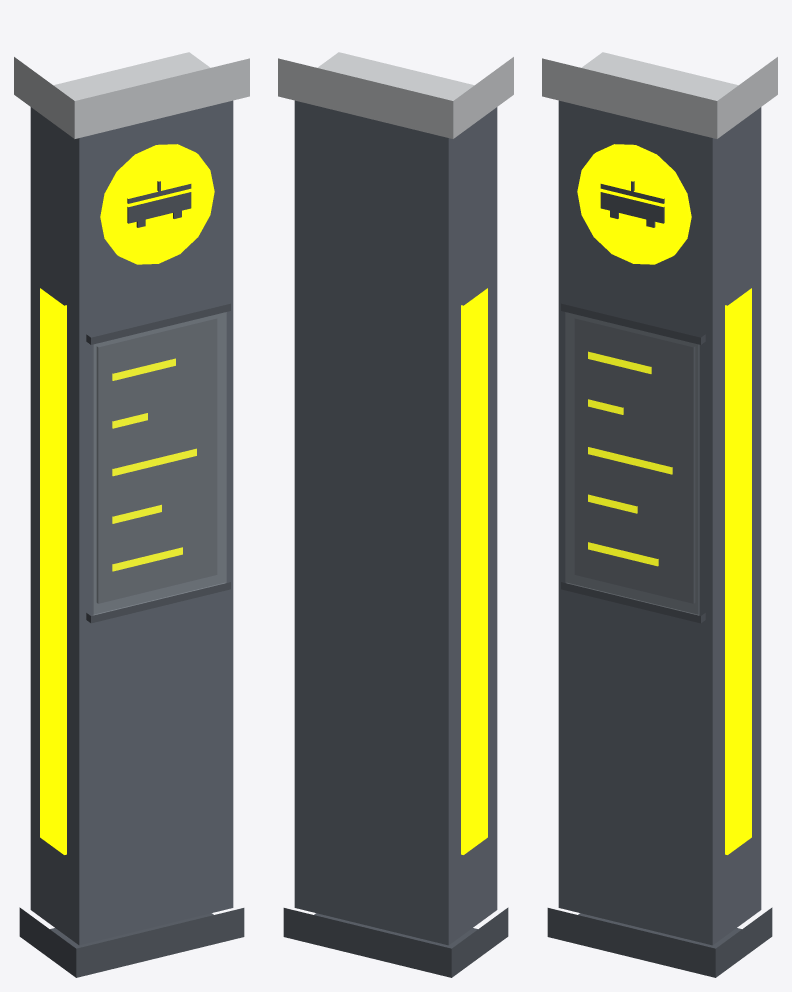
Rendered from ext_stop_totem_03.glb.
The picture shows the model from 3 angles, left to right: view 1: azimuth 30°, elevation 25°; view 2: azimuth 150°, elevation 25°; view 3: azimuth 330°, elevation 25°; orthographic projection.
Visible parts, largest first — view 1: Body, Timetable_Glass, Timetable_Plate, Side_Light, Cap, Roundel, Plinth, Timetable_Bars, Bezel, Tram_Glyph; view 2: Body, Side_Light, Cap, Plinth; view 3: Body, Timetable_Glass, Timetable_Plate, Side_Light, Cap, Roundel, Plinth, Timetable_Bars, Bezel, Tram_Glyph.
Part boxes in pixels (x1,y1,x2,y2): Body: [30, 100, 233, 945]; Timetable_Glass: [92, 312, 226, 615]; Timetable_Plate: [96, 318, 217, 603]; Side_Light: [40, 288, 66, 854]; Cap: [14, 52, 249, 138]; Roundel: [100, 144, 214, 264]; Plinth: [19, 907, 244, 977]; Timetable_Bars: [112, 358, 196, 571]; Bezel: [86, 303, 230, 623]; Tram_Glyph: [127, 181, 191, 227]; Body: [294, 100, 497, 945]; Side_Light: [461, 288, 487, 854]; Cap: [278, 52, 513, 138]; Plinth: [283, 907, 508, 977]; Body: [558, 100, 761, 945]; Timetable_Glass: [565, 312, 699, 615]; Timetable_Plate: [574, 318, 695, 603]; Side_Light: [725, 288, 751, 854]; Cap: [542, 52, 777, 138]; Roundel: [577, 144, 691, 264]; Plinth: [547, 907, 772, 977]; Timetable_Bars: [588, 351, 672, 566]; Bezel: [561, 303, 705, 623]; Tram_Glyph: [600, 181, 664, 227].
Size of the model in its own units: 0.5 by 2.4 by 0.3.
